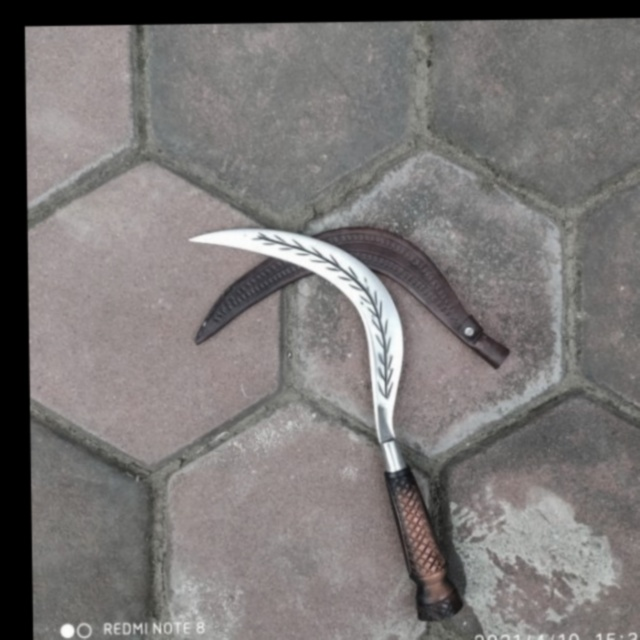Sharp-Object: (199, 208, 473, 620)
